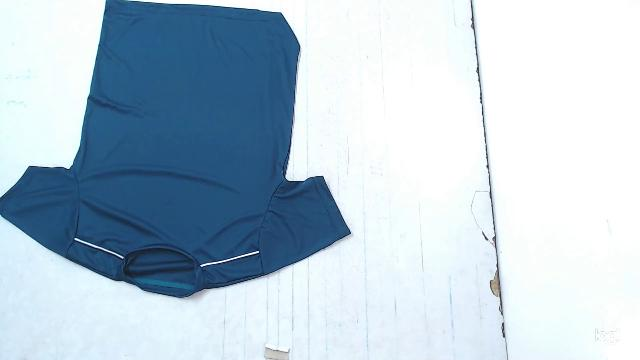new-garment: (0, 0, 350, 297)
